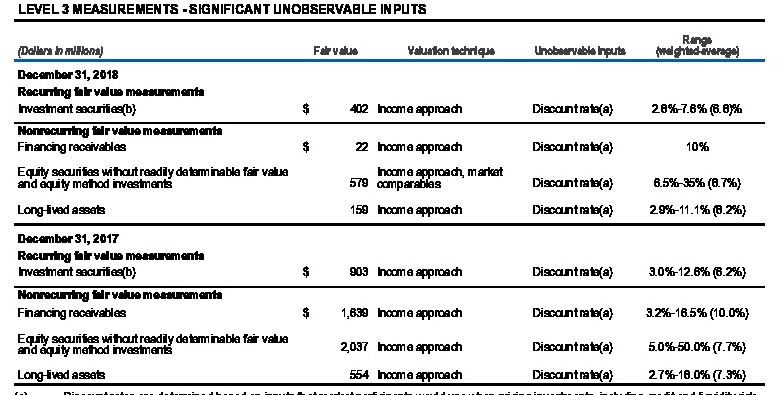table: (0, 0, 778, 395)
